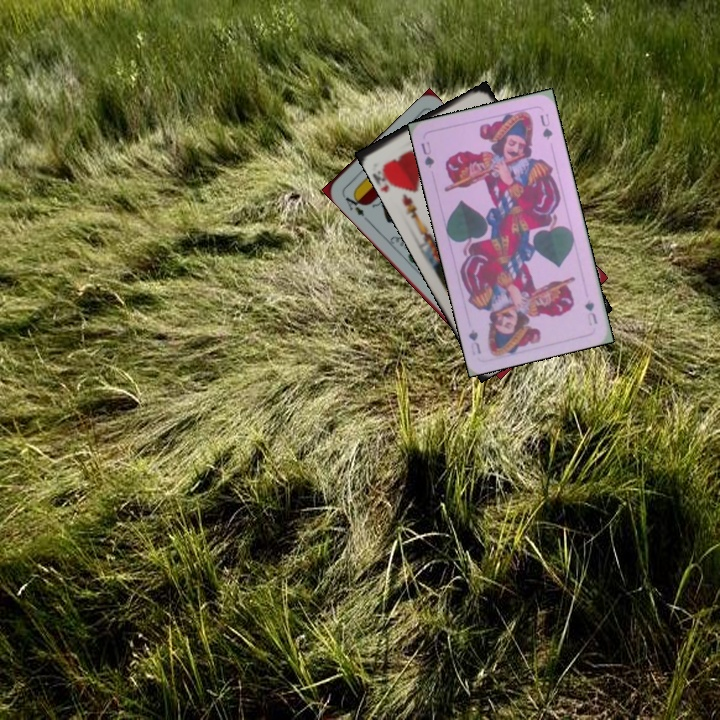EA: (338, 189, 367, 219)
GU: (417, 137, 437, 171), (581, 296, 600, 328)
HK: (371, 160, 401, 192)
